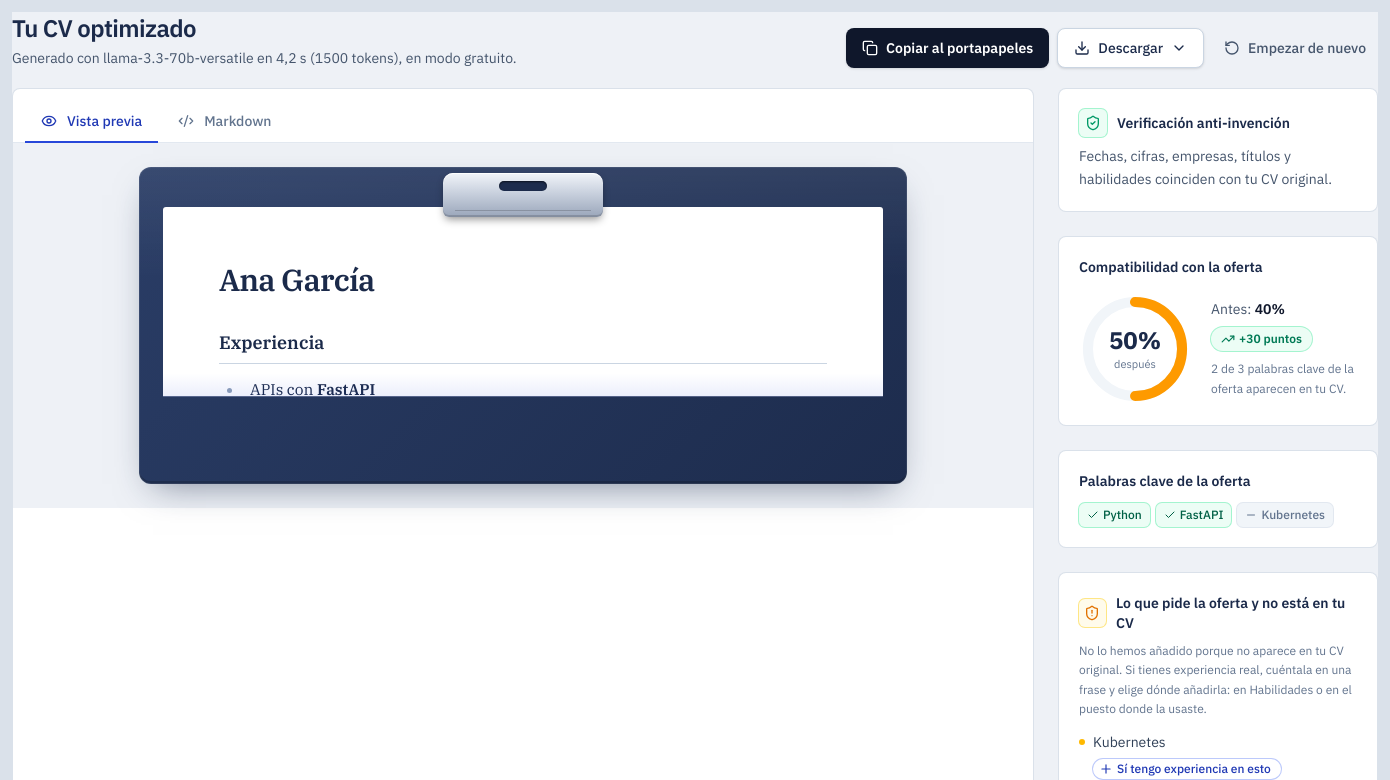
Test: ResultViewer › copia el Markdown al portapapeles
The width and height of the screenshot is (1390, 780).
Click the button "Copiar al portapapeles" at [948, 48], box [846,28,1049,68]
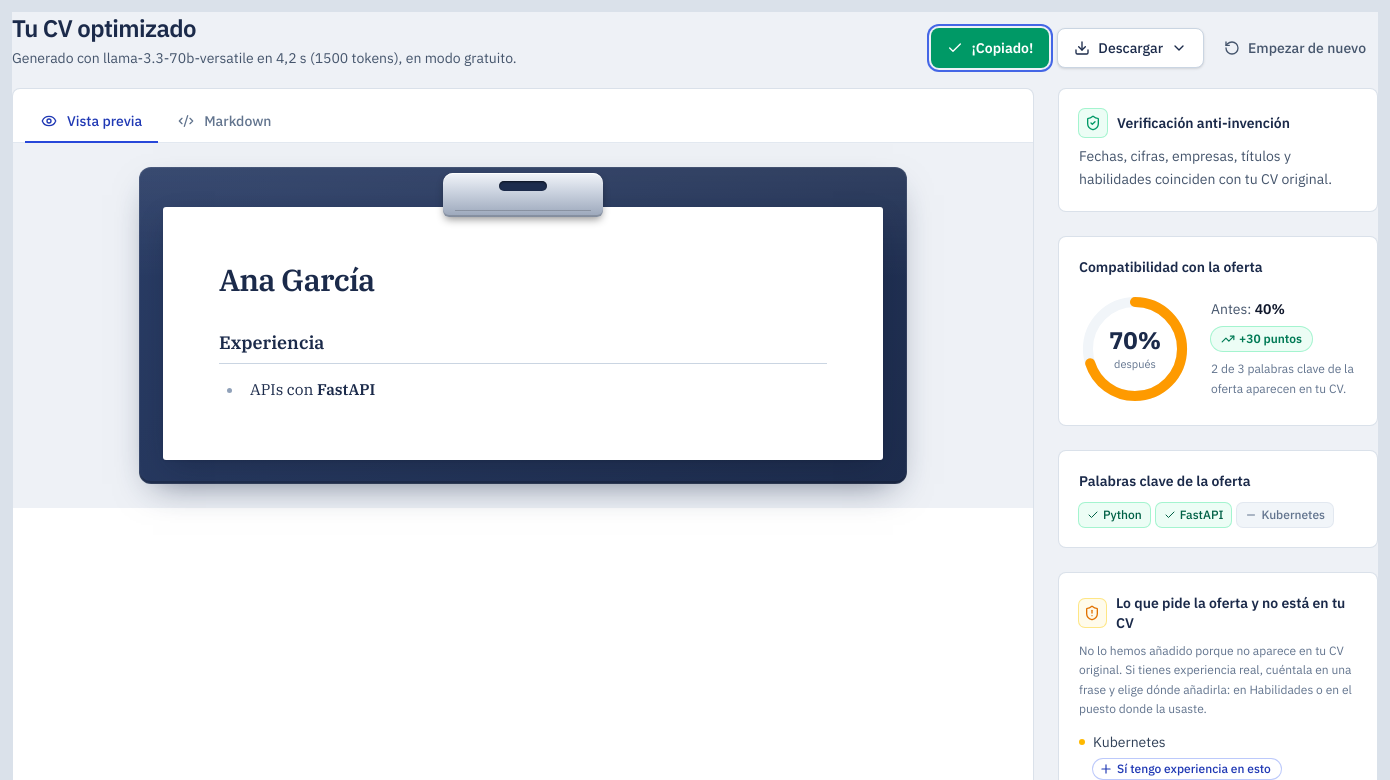
Now the text "¡Copiado!" is shown, box [971,38,1033,58]
